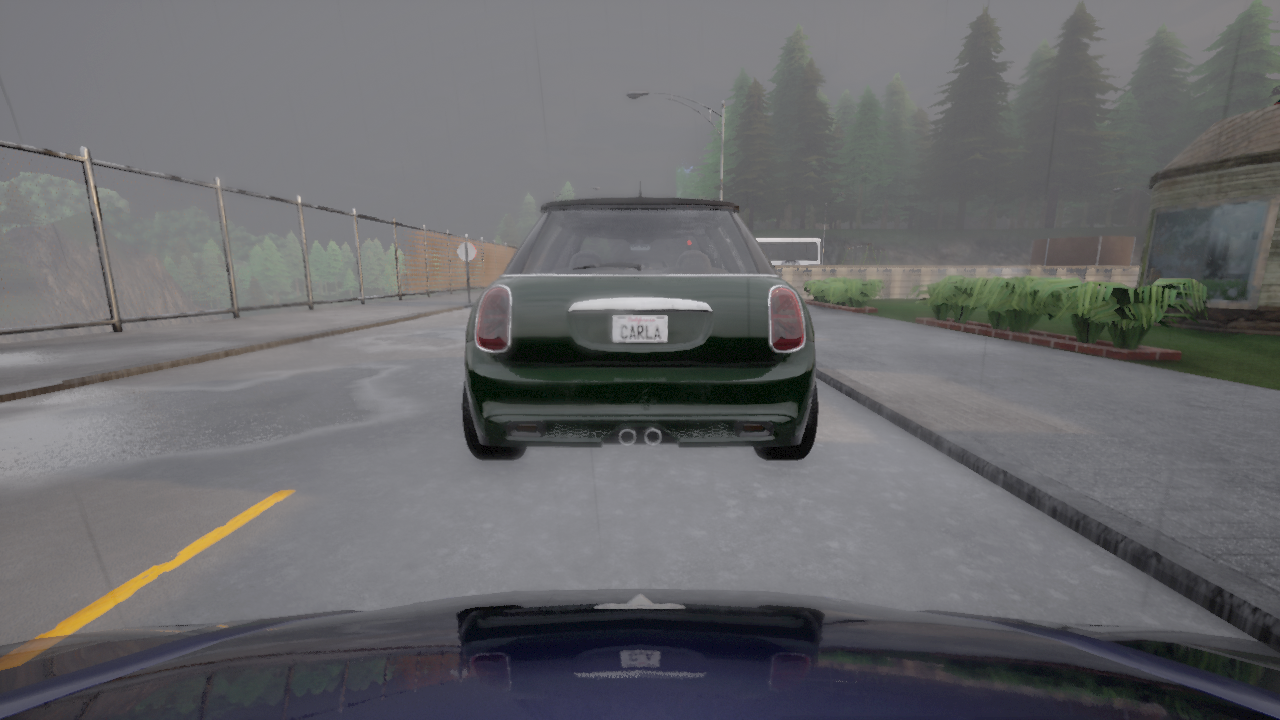cyclist: (0, 588, 1279, 719), (462, 181, 817, 459), (755, 237, 820, 265)
